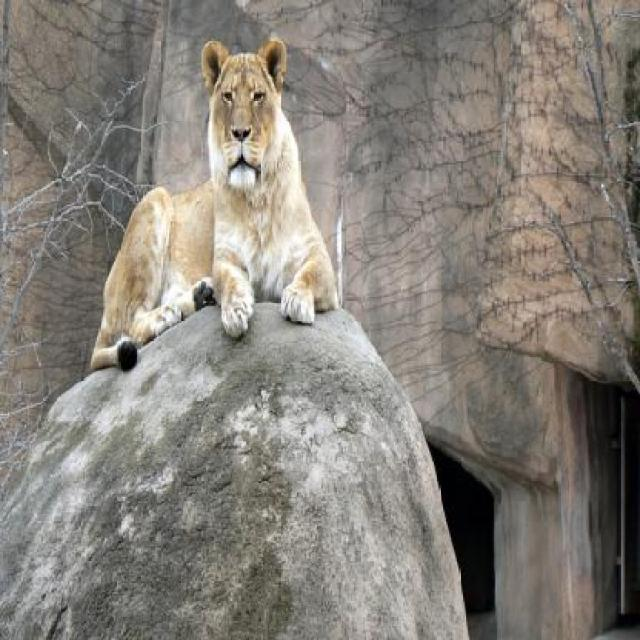Lion: (76, 19, 347, 378)
